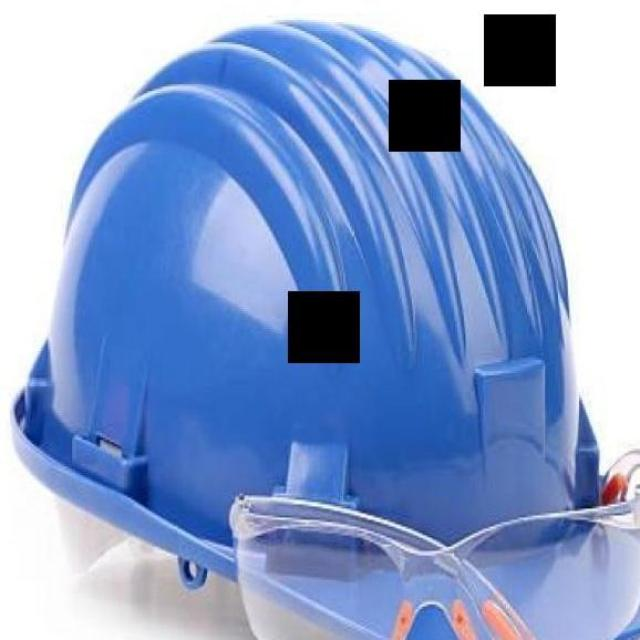blue helmet: (5, 13, 640, 640)
